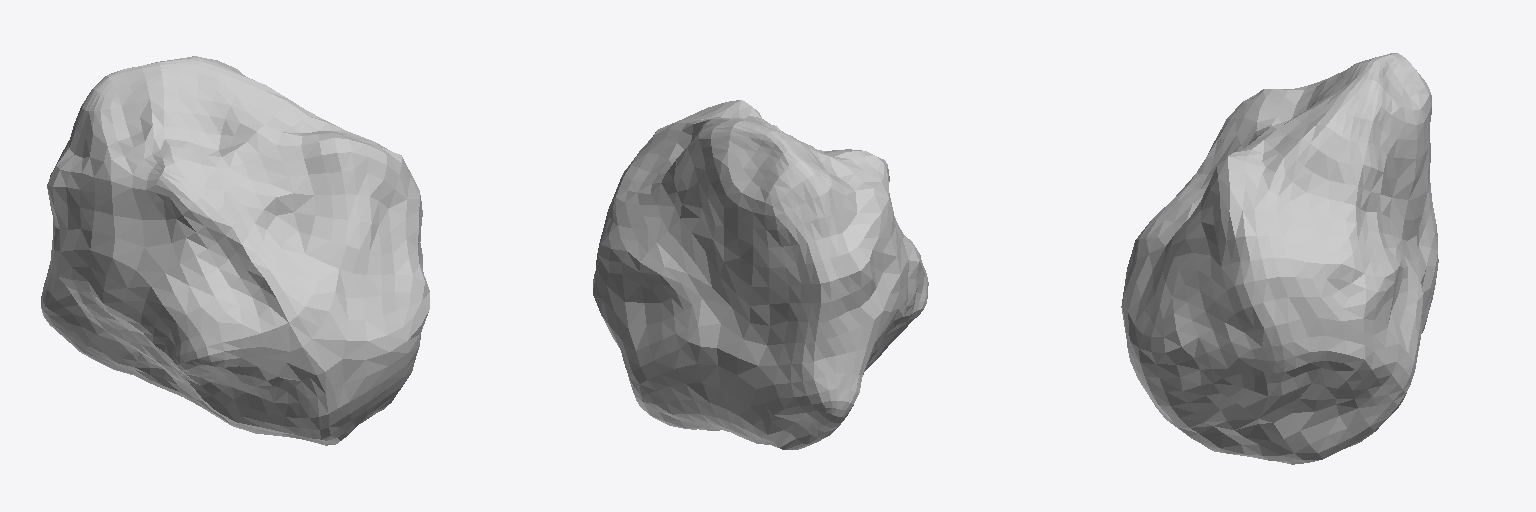
File: asteroide4.obj
3 renders of one model, left to right at view 1: azimuth 30°, elevation 25°; view 2: azimuth 150°, elevation 25°; view 3: azimuth 270°, elevation 25°, orthographic.
Visible parts, largest first — view 1: Asteroid_no_4; view 2: Asteroid_no_4; view 3: Asteroid_no_4.
Part boxes in pixels (left/top/right/bottom): Asteroid_no_4: left=41, top=56, right=429, bottom=445; Asteroid_no_4: left=593, top=100, right=928, bottom=449; Asteroid_no_4: left=1121, top=53, right=1438, bottom=464.
Size of the model in its own units: 7.91 by 8.32 by 6.99.